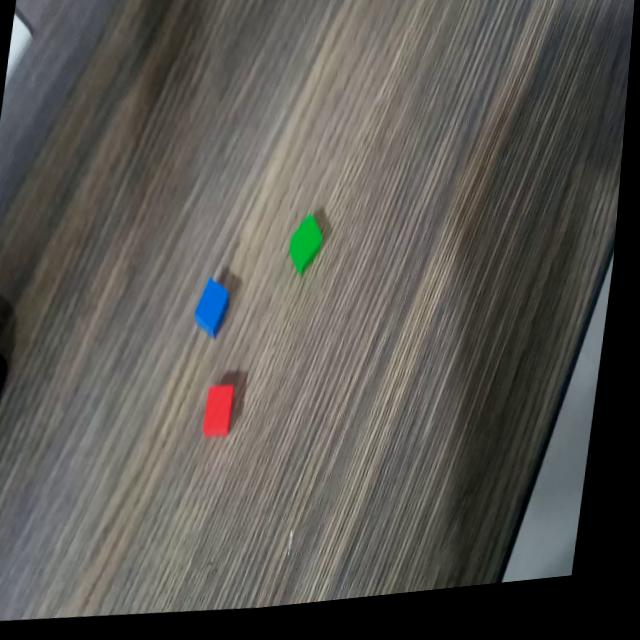cube: (194, 276, 241, 346), (288, 214, 333, 284), (206, 384, 246, 449)
